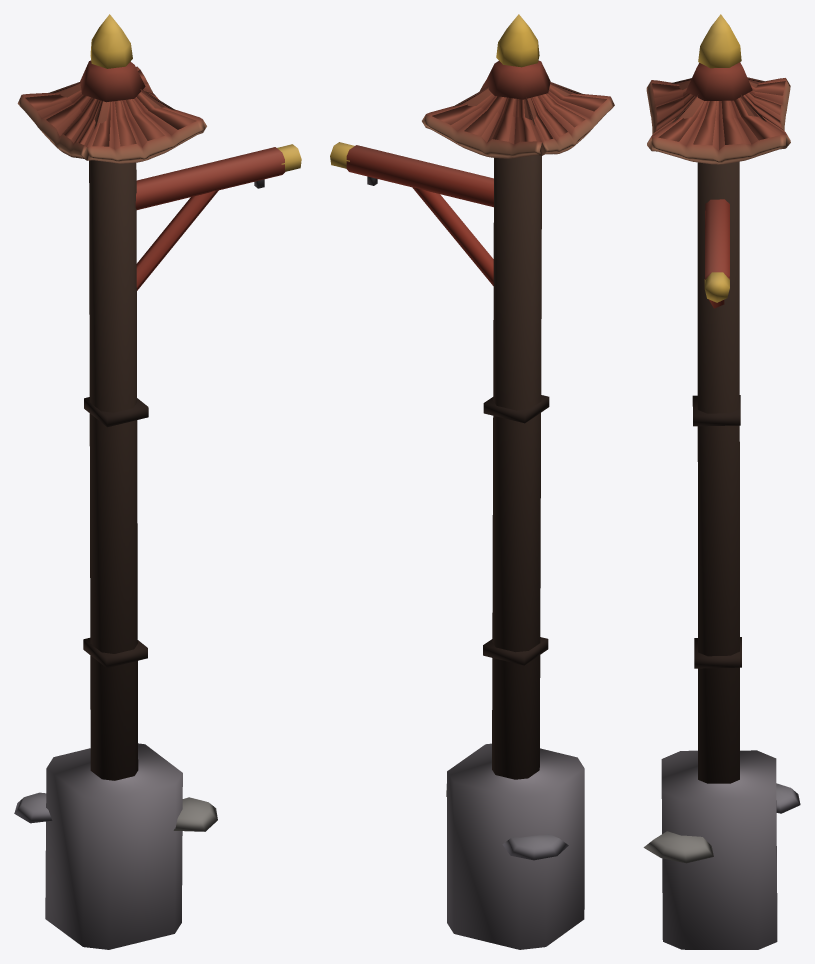
The model's file is zv-maple-lanternPost.glb.
The picture shows the model from 3 angles, left to right: view 1: azimuth 30°, elevation 25°; view 2: azimuth 150°, elevation 25°; view 3: azimuth 270°, elevation 25°; orthographic projection.
Visible parts, largest first — view 1: lanternPost; view 2: lanternPost; view 3: lanternPost.
Part boxes in pixels (x1,y1,x2,y2): lanternPost: (14,14,301,949); lanternPost: (330,14,614,949); lanternPost: (643,14,800,949).
Bounding box in the file's own units: 0.7619 × 2.63 × 0.4119.
